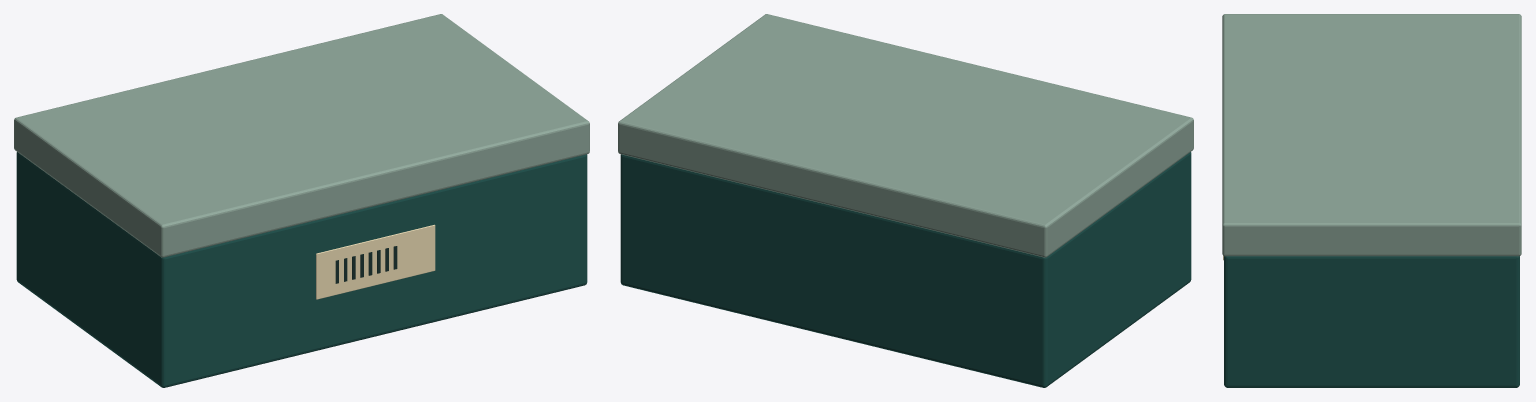
The model's file is shoeboxLarge.glb.
The picture shows the model from 3 angles, left to right: view 1: azimuth 30°, elevation 25°; view 2: azimuth 150°, elevation 25°; view 3: azimuth 270°, elevation 25°; orthographic projection.
Visible parts, largest first — view 1: shoeboxLarge; view 2: shoeboxLarge; view 3: shoeboxLarge.
Part boxes in pixels (box(x1,y1,x2,y2)): shoeboxLarge: box(14, 14, 589, 387); shoeboxLarge: box(618, 14, 1193, 387); shoeboxLarge: box(1222, 14, 1521, 387).
Size of the model in its own units: 0.3 by 0.11 by 0.18.
